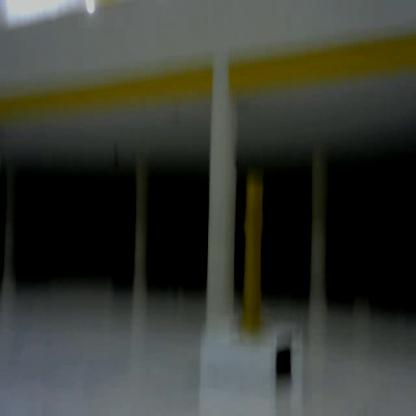pole: (227, 175, 278, 341)
